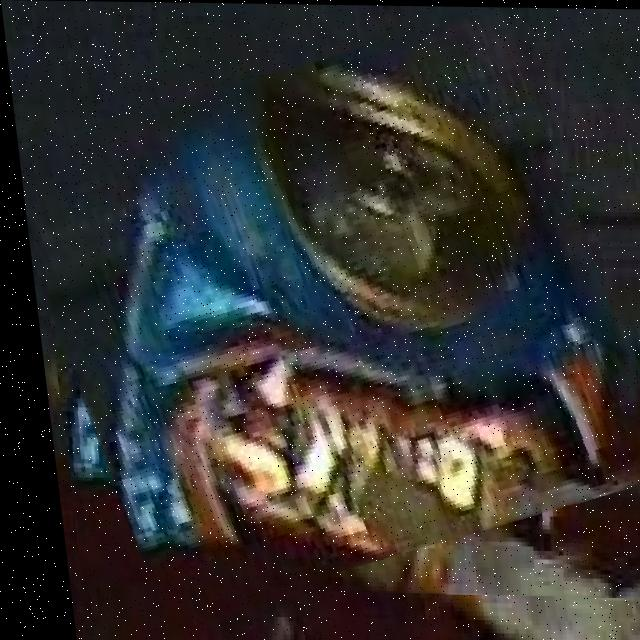can: (15, 34, 640, 597)
